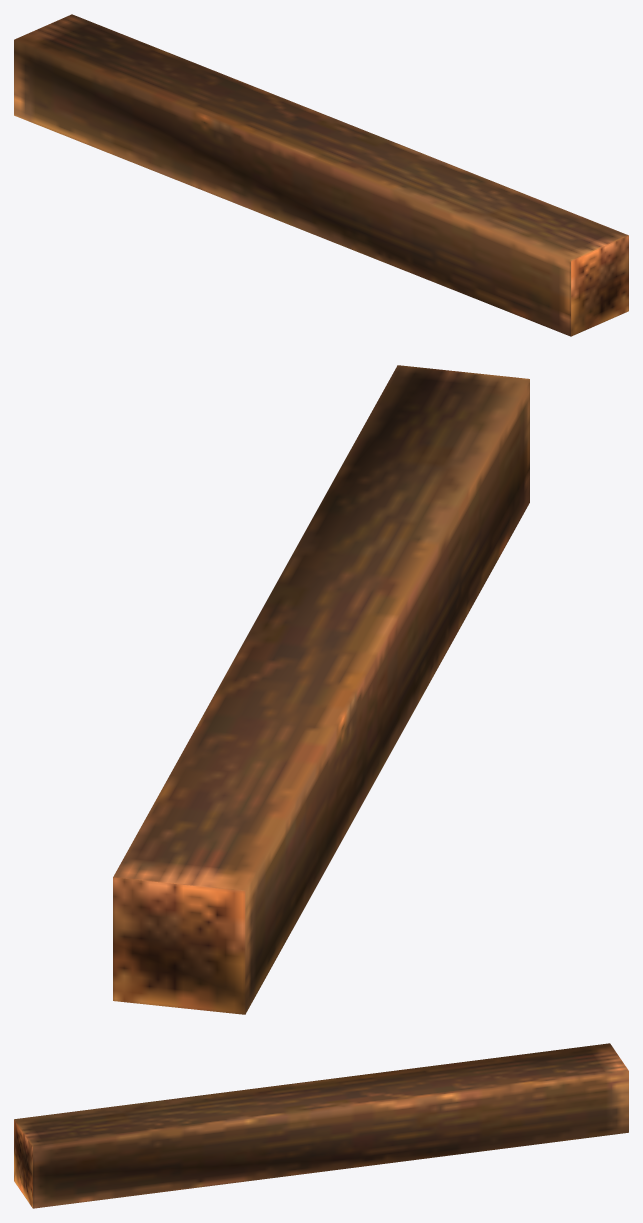
File: SWORDLIGHT20_JAILBRACE134.fbx
3 views of the same model, one above another, from view 1: azimuth 30°, elevation 25°; view 2: azimuth 150°, elevation 25°; view 3: azimuth 270°, elevation 25° (orthographic). The views are drawn at different scales.
Visible parts, largest first — view 1: SWORDLIGHT20_JAILBRACE134; view 2: SWORDLIGHT20_JAILBRACE134; view 3: SWORDLIGHT20_JAILBRACE134.
Boxes of the visible parts, x1,y1,x2,y2 form: SWORDLIGHT20_JAILBRACE134: (14,14,628,336); SWORDLIGHT20_JAILBRACE134: (113,365,529,1014); SWORDLIGHT20_JAILBRACE134: (14,1043,628,1208).
Size of the model in its own units: 7496 by 2083 by 18795.
1 material, 1 textured.
